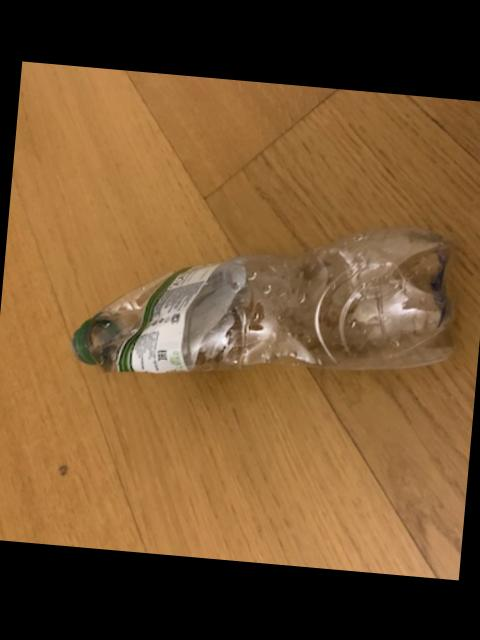plastic: (70, 225, 448, 370)
